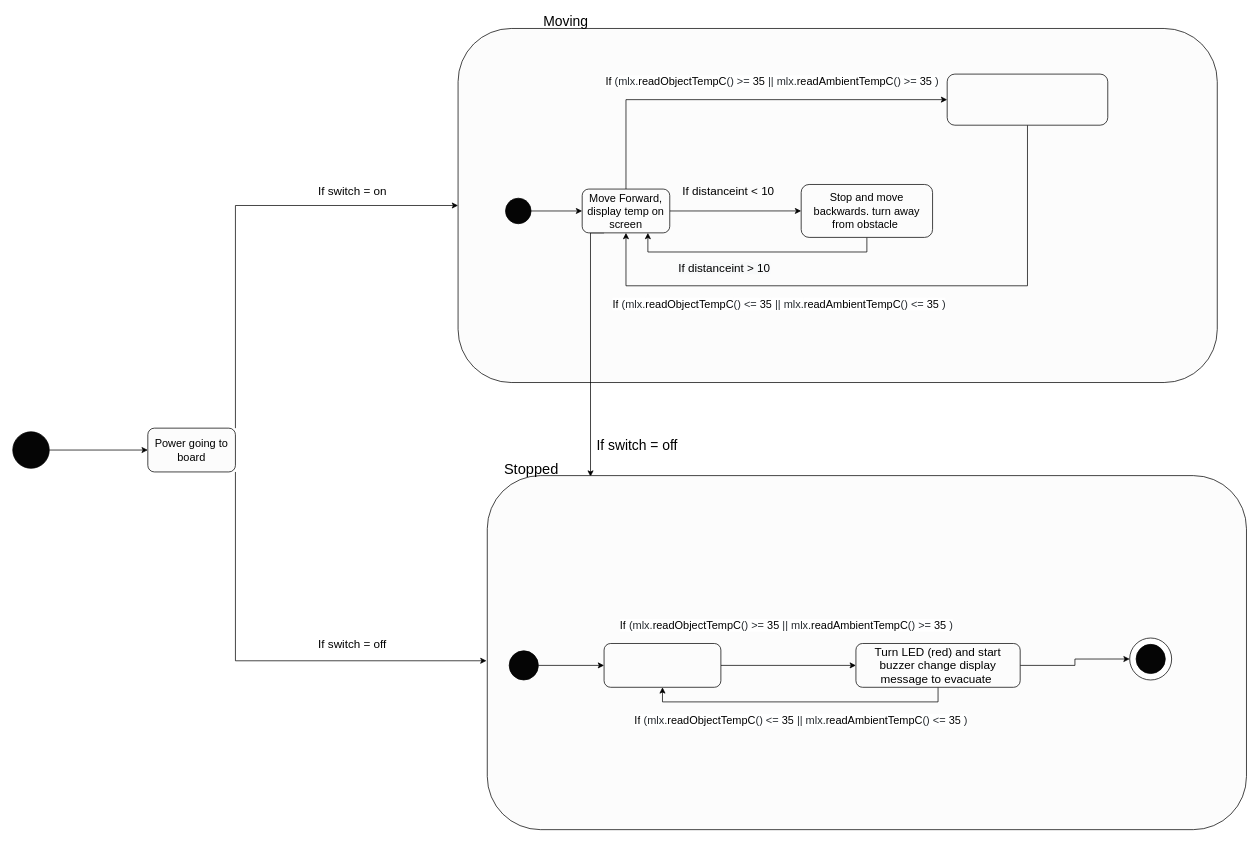
Some shapes in this 1259 by 842 pixel diagram are drawn without their labels. Each missing label, with the centre of its shape:
"Read and display Temp on screen, LED (green)" goes at point 662,665.
"Stop moving engage buzzer and LED light (red)" goes at point 1027,99.
